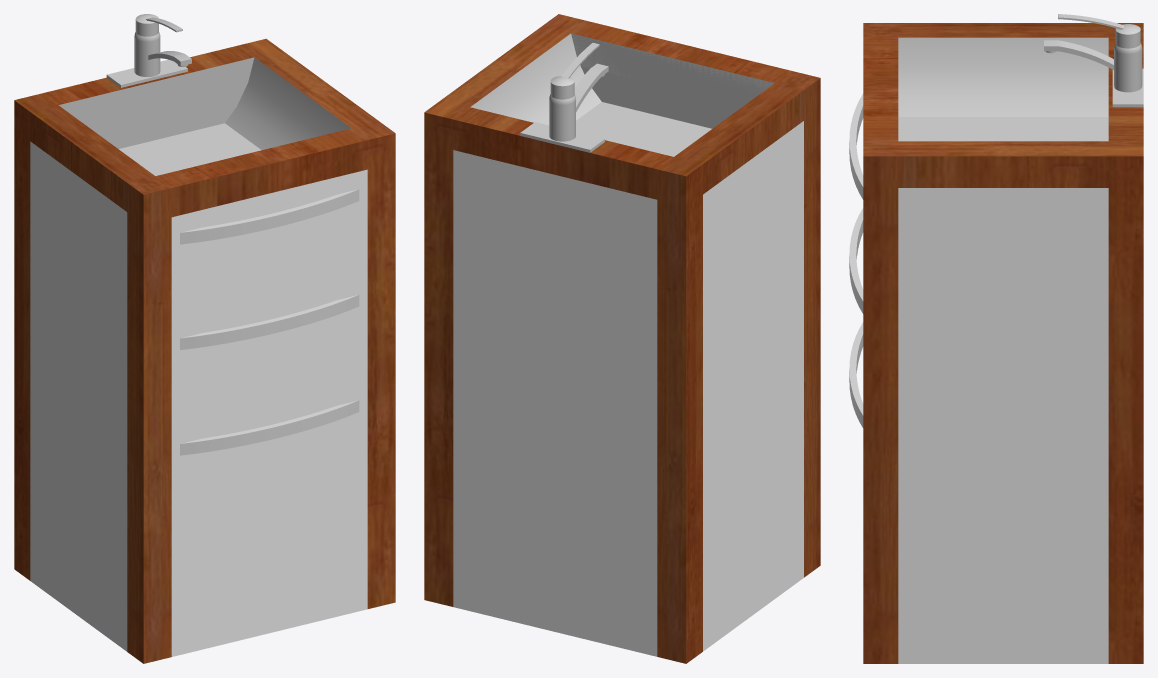
The picture shows the model from 3 angles, left to right: view 1: azimuth 30°, elevation 25°; view 2: azimuth 150°, elevation 25°; view 3: azimuth 270°, elevation 25°; orthographic projection. The views are drawn at different scales.
Visible parts, largest first — view 1: Geom3D (×7); view 2: Geom3D (×4), Geom3D_Wooden Frame; view 3: Geom3D (×7).
Part boxes in pixels (x1,y1,x2,y2): Geom3D (×7): [14, 14, 395, 663]; Geom3D (×4): [424, 14, 820, 663]; Geom3D_Wooden Frame: [571, 34, 774, 93]; Geom3D (×7): [849, 14, 1143, 663].
Bounding box in the file's own units: 0.45 × 0.9163 × 0.42.
Materials: 5 (1 with a texture image).
